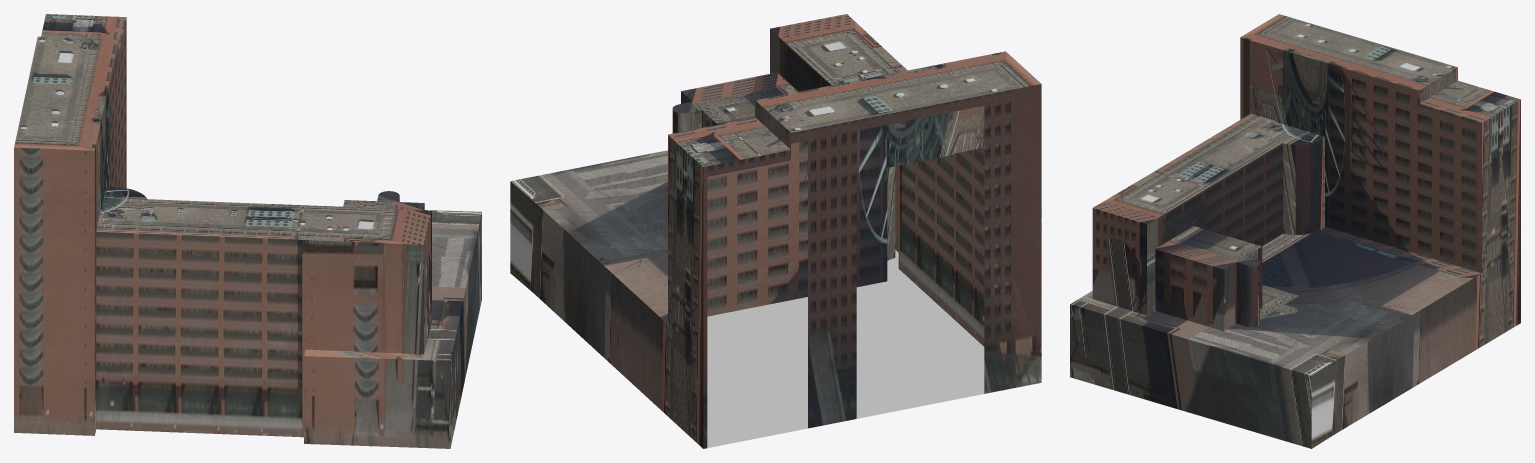
The model's file is {C5CCDB71-0624-4158-932D-530D82125FC4}.dae.
The picture shows the model from 3 angles, left to right: view 1: azimuth 30°, elevation 25°; view 2: azimuth 150°, elevation 25°; view 3: azimuth 270°, elevation 25°; orthographic projection. The views are drawn at different scales.
Bounding box in the file's own units: 93.99 × 90.53 × 52.56.
14 materials, 13 textured.
